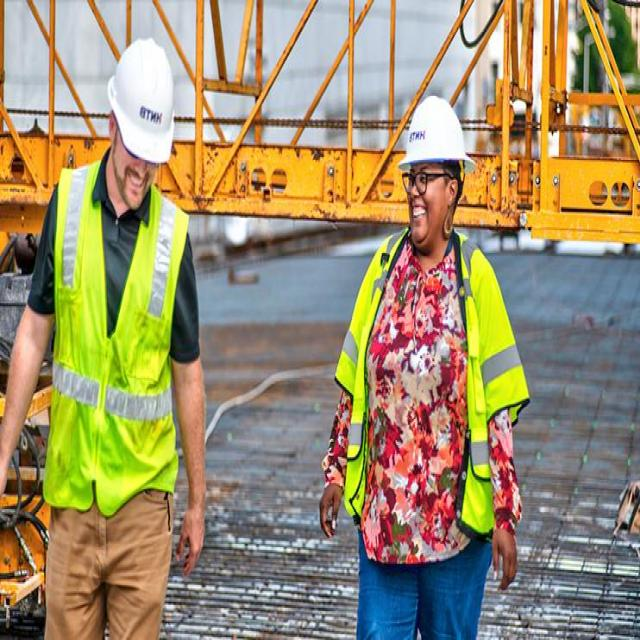Reflective-Jacket: (338, 232, 526, 548), (41, 169, 190, 527)
Safety-Helmet: (105, 34, 180, 168), (398, 87, 475, 175)
